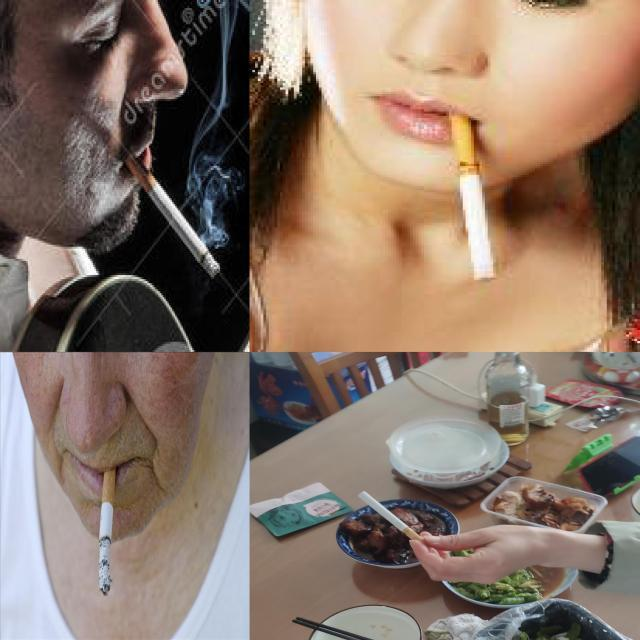smoking: (123, 152, 222, 280), (448, 108, 498, 284), (358, 490, 432, 547), (99, 459, 117, 598)
